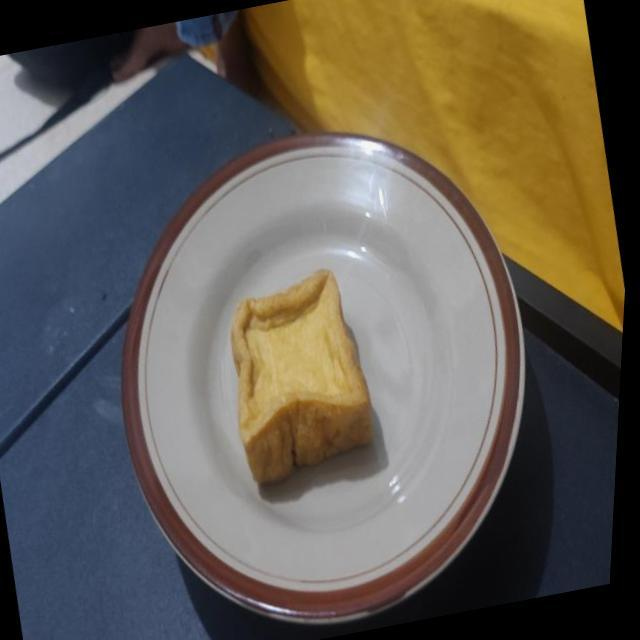tahu_goreng: (231, 269, 372, 483)
